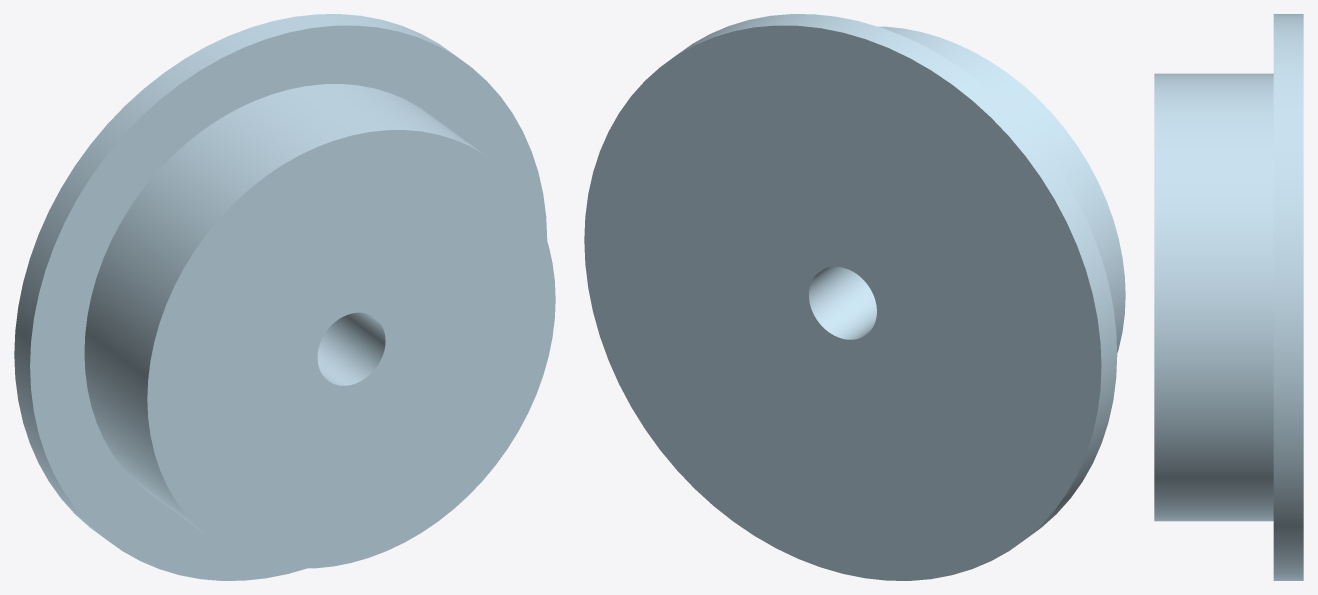
3 views of the same model, side by side, from view 1: azimuth 30°, elevation 25°; view 2: azimuth 150°, elevation 25°; view 3: azimuth 270°, elevation 25° (orthographic). The views are drawn at different scales.
Visible parts, largest first — view 1: Part 1; view 2: Part 1; view 3: Part 1.
Boxes of the visible parts, x1=… form: Part 1: x1=14, y1=14, x2=555, y2=580; Part 1: x1=584, y1=14, x2=1125, y2=580; Part 1: x1=1154, y1=14, x2=1303, y2=580.
Bounding box in the file's own units: 0.076 × 0.076 × 0.02.
